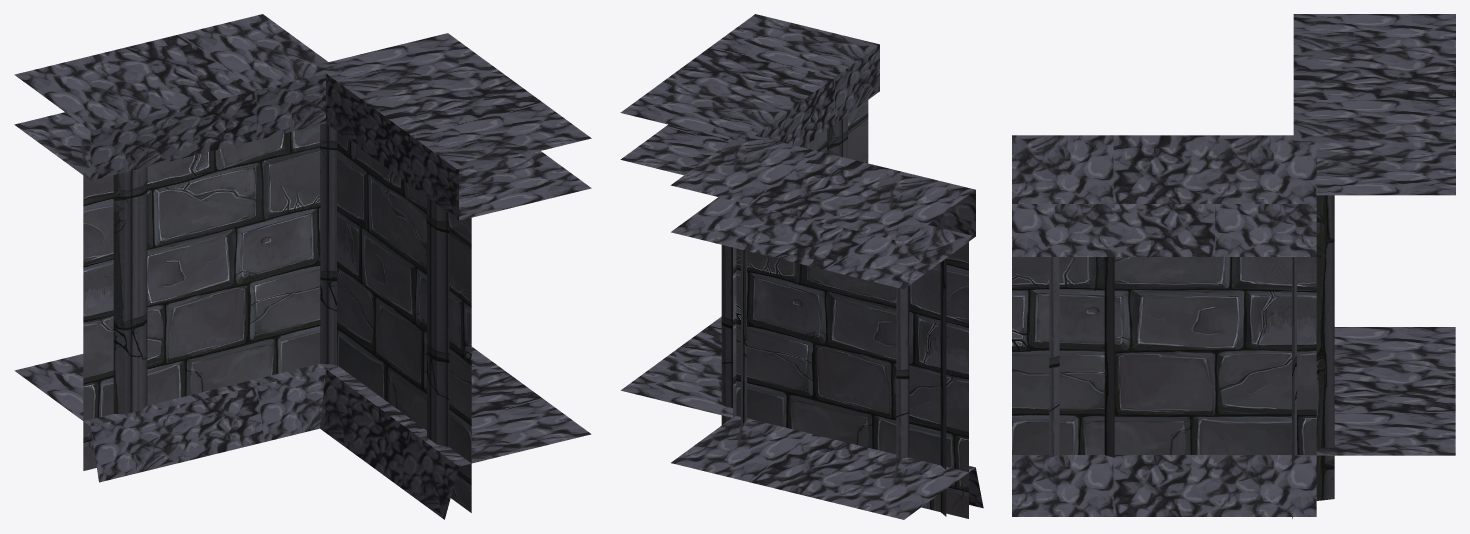
The model's file is wall_002.FBX.
3 renders of one model, left to right at view 1: azimuth 30°, elevation 25°; view 2: azimuth 150°, elevation 25°; view 3: azimuth 270°, elevation 25°, orthographic. The views are drawn at different scales.
Visible parts, largest first — view 1: Box01, Box03, Box11, Box09, Box02, Box07, Box04, Box10, Box05; view 2: Box01, Box03, Box11, Box02, Box07, Box04, Box05, Box09, Box10; view 3: Box09, Box11, Box03, Box07, Box02, Box05, Box10.
Boxes of the visible parts, left/top/right/bottom form: Box01: left=83, top=125, right=320, bottom=470; Box03: left=14, top=14, right=335, bottom=180; Box11: left=319, top=33, right=591, bottom=220; Box09: left=337, top=131, right=471, bottom=512; Box02: left=14, top=354, right=337, bottom=482; Box07: left=320, top=347, right=591, bottom=519; Box04: left=113, top=167, right=147, bottom=414; Box10: left=427, top=197, right=449, bottom=446; Box05: left=320, top=123, right=336, bottom=364; Box01: left=736, top=242, right=968, bottom=518; Box03: left=670, top=133, right=975, bottom=288; Box11: left=620, top=14, right=879, bottom=175; Box02: left=671, top=418, right=983, bottom=519; Box07: left=621, top=316, right=747, bottom=419; Box04: left=896, top=258, right=946, bottom=516; Box05: left=721, top=245, right=746, bottom=426; Box09: left=733, top=100, right=868, bottom=417; Box10: left=827, top=115, right=847, bottom=158; Box09: left=1012, top=257, right=1316, bottom=454; Box11: left=1012, top=135, right=1316, bottom=256; Box03: left=1293, top=14, right=1455, bottom=195; Box07: left=1012, top=455, right=1316, bottom=516; Box02: left=1296, top=327, right=1455, bottom=455; Box05: left=1292, top=195, right=1334, bottom=518; Box10: left=1049, top=257, right=1114, bottom=457.
Bounding box in the file's own units: 104 × 93.41 × 103.
3 materials, 3 textured.
